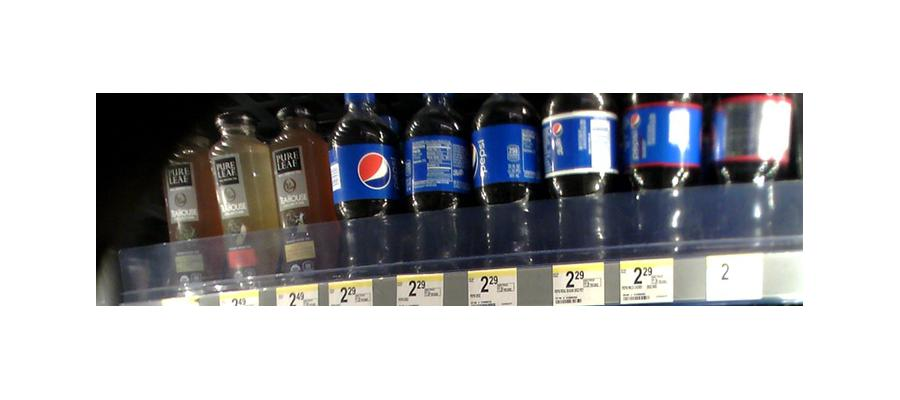bottle: (329, 89, 398, 273), (709, 95, 793, 241), (623, 95, 701, 252), (545, 91, 619, 256), (403, 94, 471, 267), (210, 105, 271, 287), (475, 93, 543, 256), (270, 102, 330, 284), (165, 112, 218, 288)
